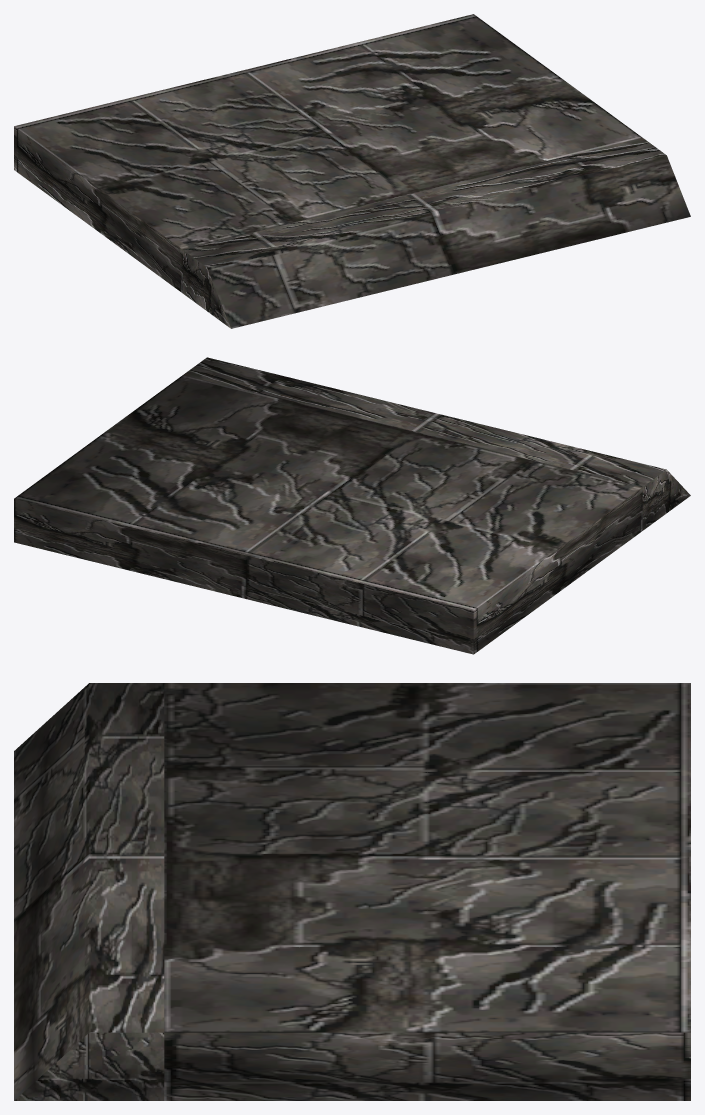
Rendered from INST_SM_DEBRIS_BLOCK_LARGEC.fbx.
The picture shows the model from 3 angles, top to bottom: view 1: azimuth 30°, elevation 25°; view 2: azimuth 150°, elevation 25°; view 3: azimuth 270°, elevation 25°; orthographic projection. The views are drawn at different scales.
Parts seen in each view (by area): view 1: INST_SM_DEBRIS_BLOCK_LARGEC; view 2: INST_SM_DEBRIS_BLOCK_LARGEC; view 3: INST_SM_DEBRIS_BLOCK_LARGEC.
Boxes of the visible parts, x1,y1,x2,y2 form: INST_SM_DEBRIS_BLOCK_LARGEC: (14, 14, 690, 328); INST_SM_DEBRIS_BLOCK_LARGEC: (14, 357, 690, 654); INST_SM_DEBRIS_BLOCK_LARGEC: (14, 683, 690, 1100).
Bounding box in the file's own units: 110000 × 10000 × 90000.
1 material, 1 textured.
